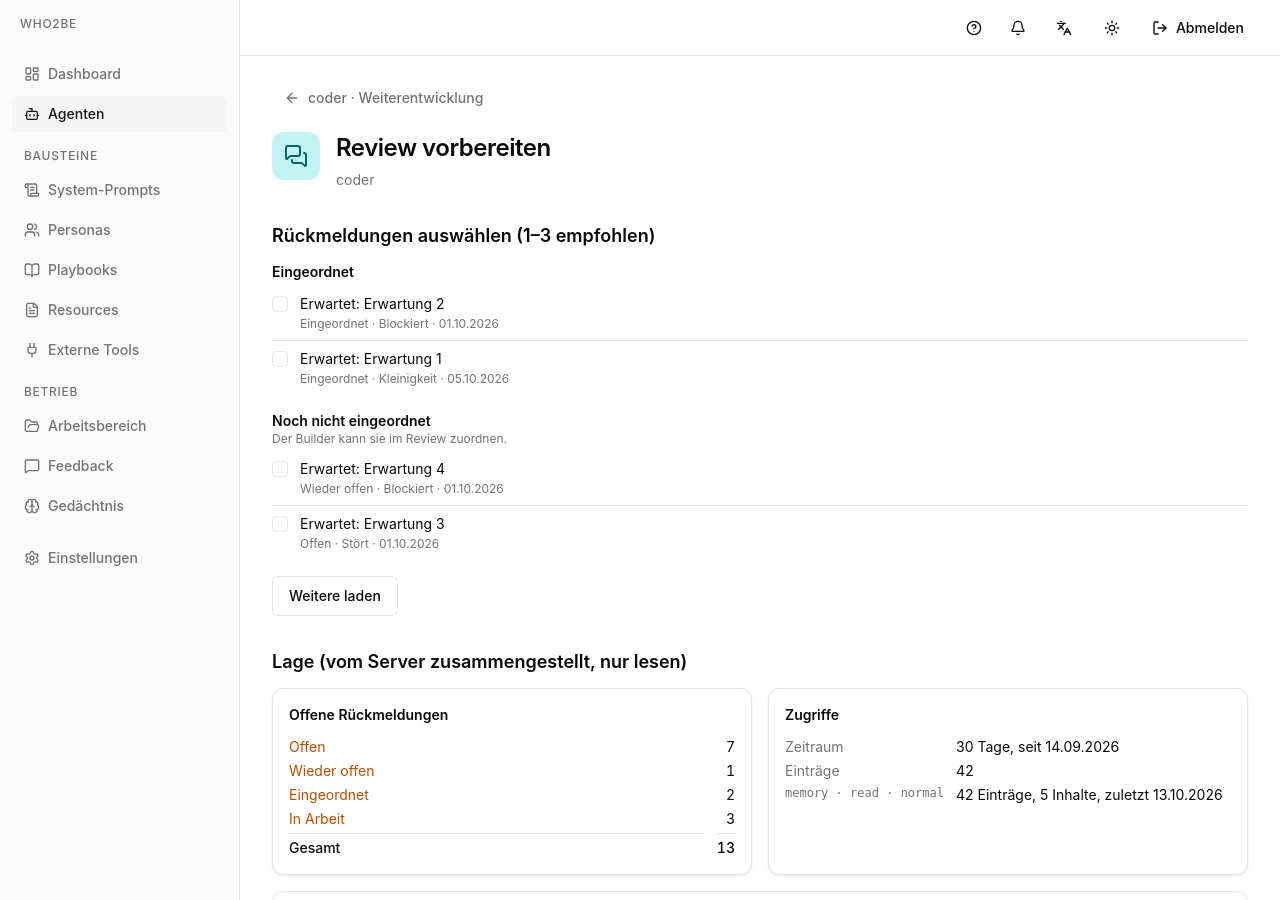
Test case: ① Rückmeldungen › laedt weitere per Cursor und sperrt den Knopf waehrend des Ladens
Click the button with test id "prepare-load-more" at (335, 596), box [272,576,398,616]
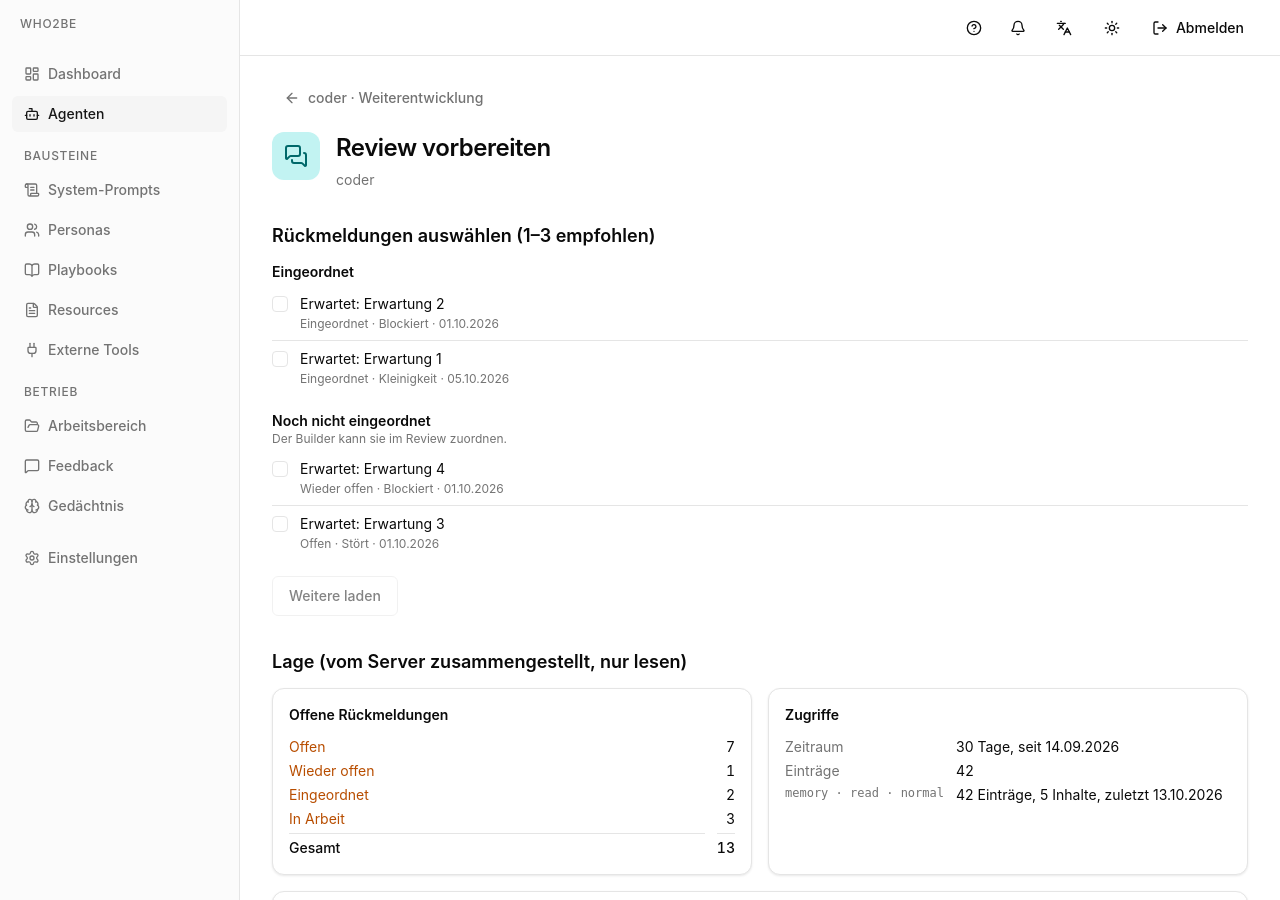
Expected: the button with test id "prepare-load-more" is disabled
Click the button with test id "prepare-load-more" at (335, 596), box [272,576,398,616]
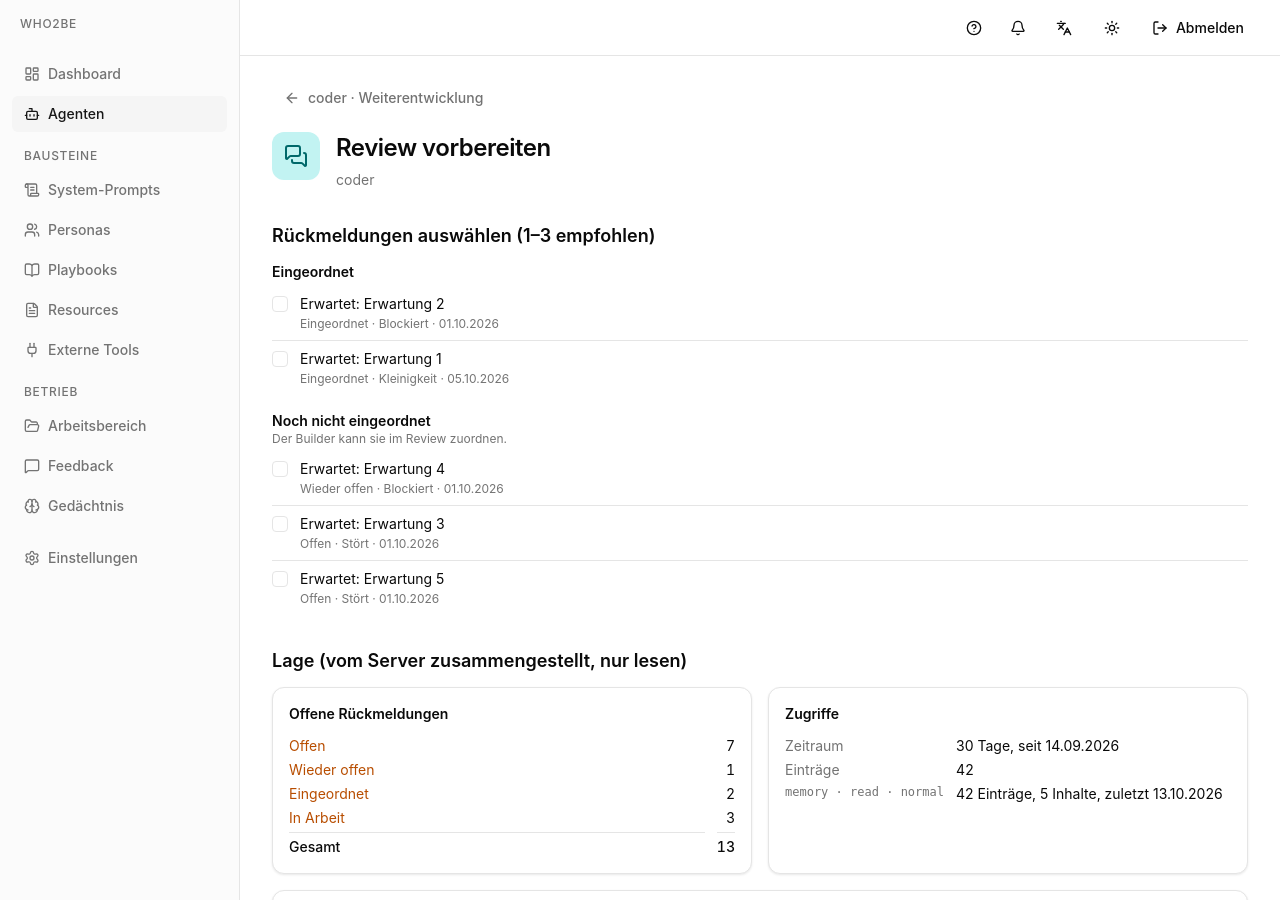
Expected: the checkbox labelled "Erwartet: Erwartung 5 Offen · Stört · 01.10.2026" is shown, [264,563,296,595]
Expected: the button with test id "prepare-load-more" is gone
